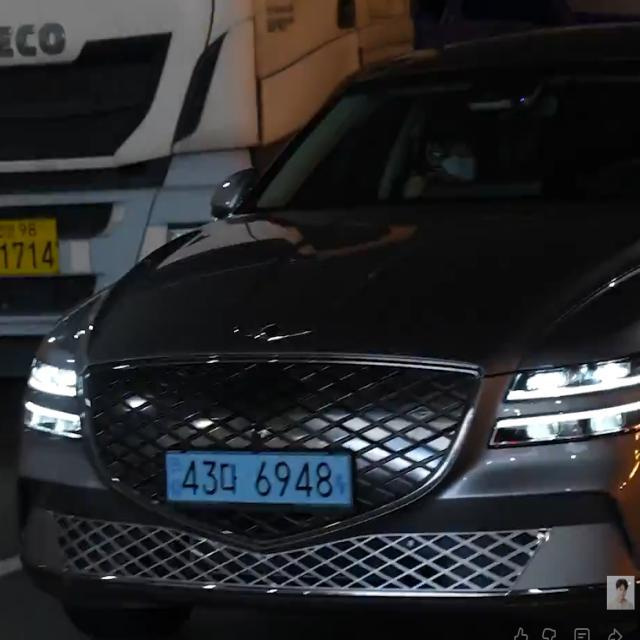car: (148, 430, 374, 532)
carev: (329, 452, 356, 509), (165, 453, 184, 504)
